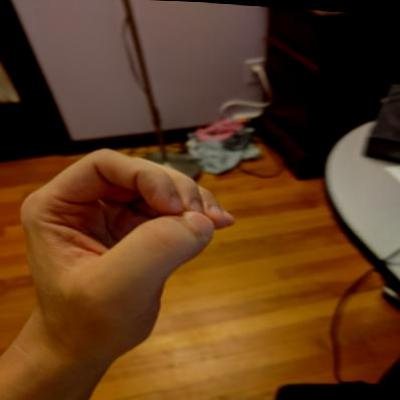hand: (6, 138, 244, 366)
